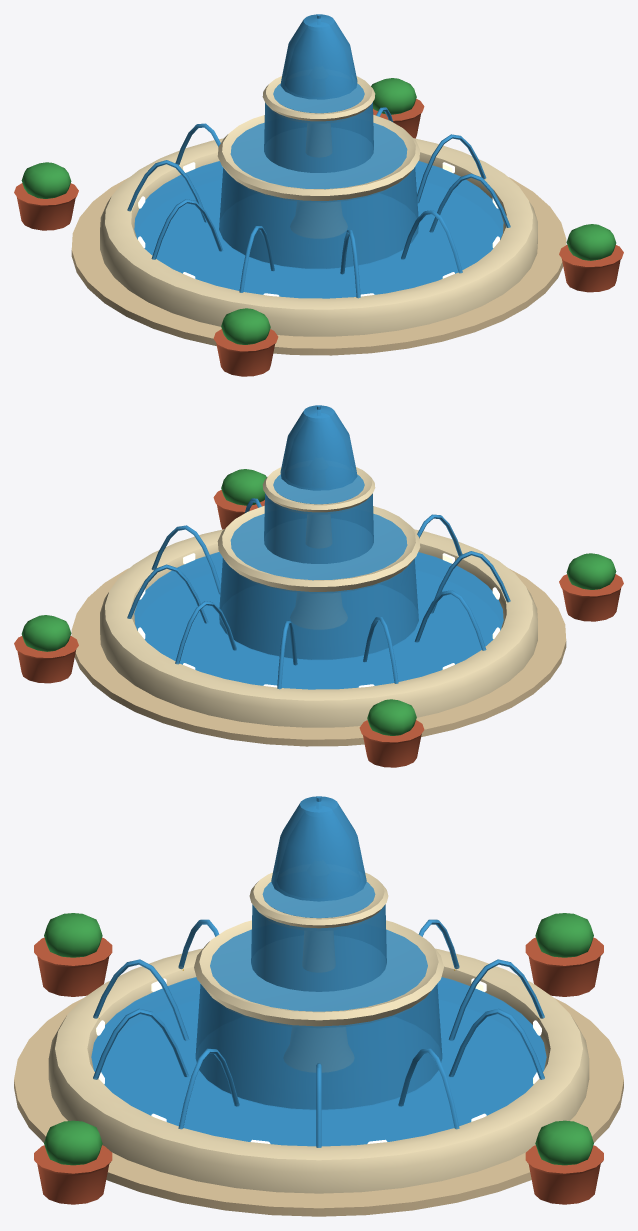
The model's file is chafariz_praca.glb.
The picture shows the model from 3 angles, top to bottom: view 1: azimuth 30°, elevation 25°; view 2: azimuth 150°, elevation 25°; view 3: azimuth 270°, elevation 25°; orthographic projection. The views are drawn at different scales.
Visible parts, largest first — view 1: chafariz_praca, coroa_jatos; view 2: chafariz_praca, coroa_jatos; view 3: chafariz_praca, coroa_jatos.
Part boxes in pixels (x1,y1,x2,y2): chafariz_praca: [14, 14, 623, 376]; coroa_jatos: [127, 107, 510, 298]; chafariz_praca: [14, 405, 623, 767]; coroa_jatos: [127, 498, 510, 689]; chafariz_praca: [14, 796, 623, 1216]; coroa_jatos: [93, 919, 544, 1147].
Size of the model in its own units: 7.9 by 4.15 by 7.9.
3 materials, 1 textured.
